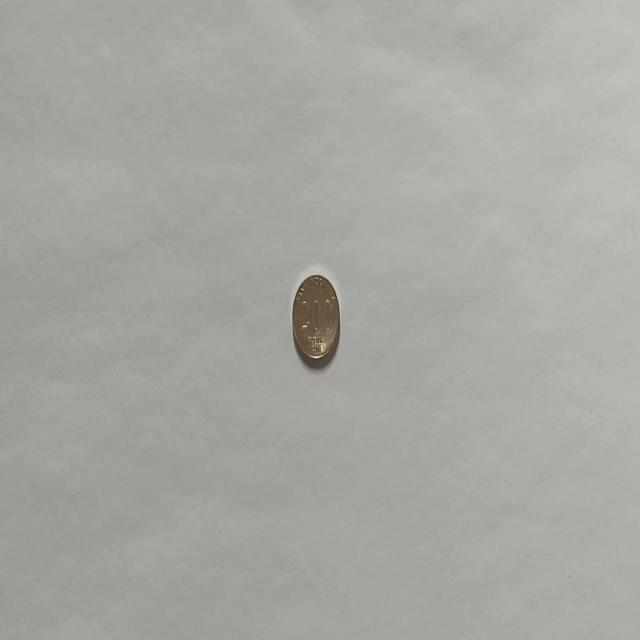dua ratus rupiah: (291, 272, 340, 364)
